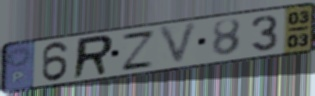3: (249, 14, 282, 52)
6: (41, 41, 70, 83)
8: (210, 18, 243, 59)
R: (70, 33, 116, 81)
V: (156, 20, 201, 69)
Z: (119, 29, 158, 72)
